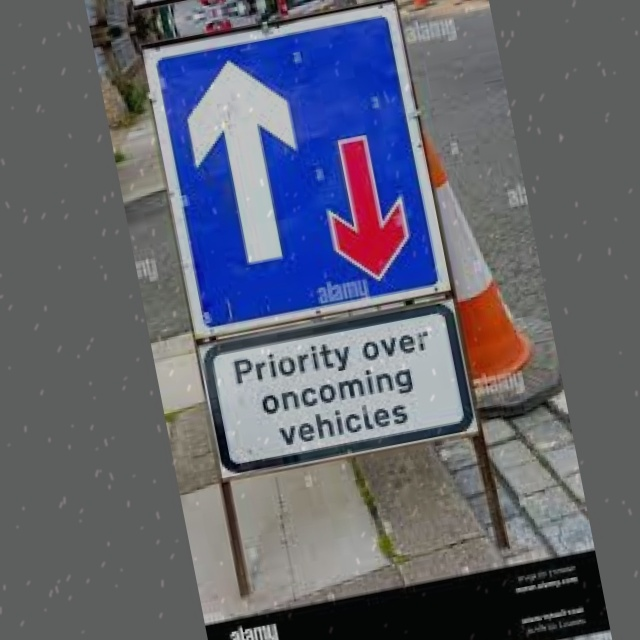Priority_for_Oncoming_Traffic: (155, 12, 442, 331)
